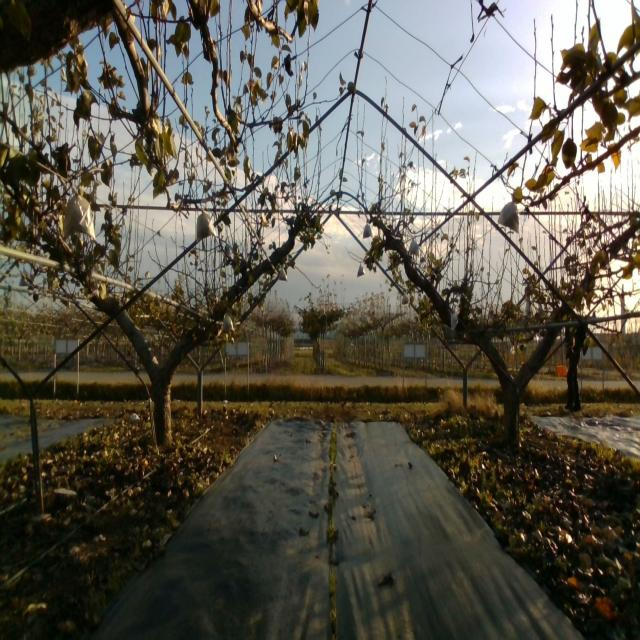pearbags: (62, 189, 97, 243), (496, 194, 519, 232), (195, 208, 216, 244), (220, 312, 234, 332), (363, 220, 373, 240), (408, 239, 419, 257)
